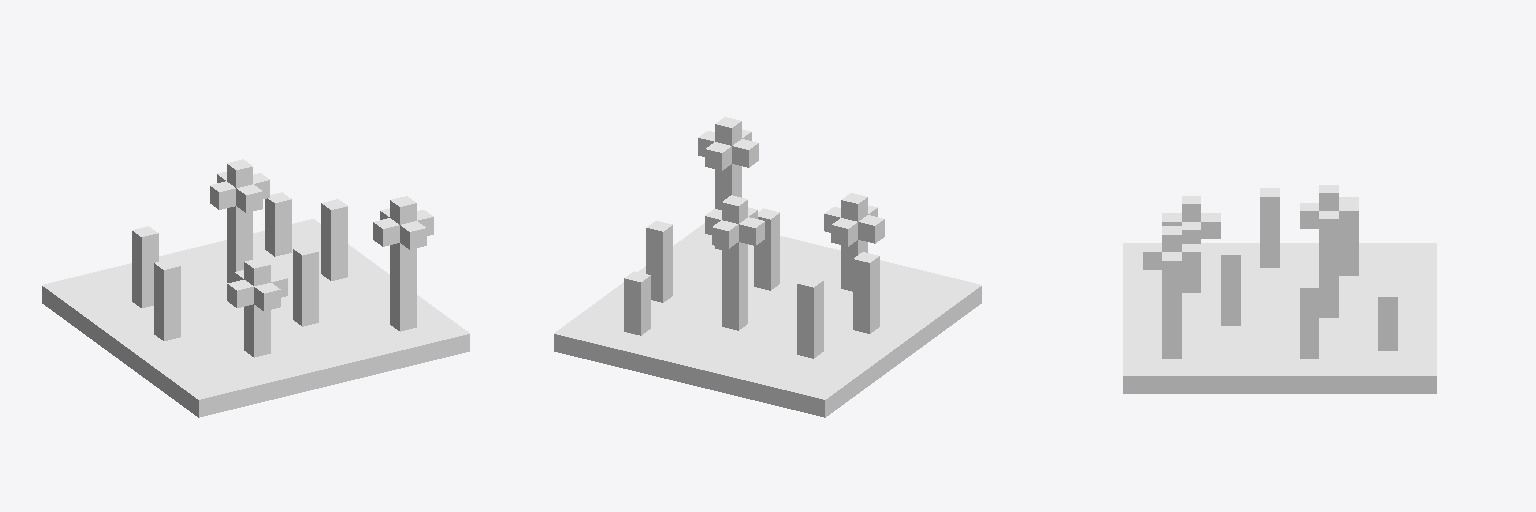
File: Crops-1.obj
3 renders of one model, left to right at view 1: azimuth 30°, elevation 25°; view 2: azimuth 150°, elevation 25°; view 3: azimuth 270°, elevation 25°, orthographic.
Parts seen in each view (by area): view 1: Crops-1; view 2: Crops-1; view 3: Crops-1.
Boxes of the visible parts, x1,y1,x2,y2 form: Crops-1: [42, 159, 469, 417]; Crops-1: [554, 117, 981, 417]; Crops-1: [1123, 185, 1436, 393].
Bounding box in the file's own units: 16 × 8 × 16.